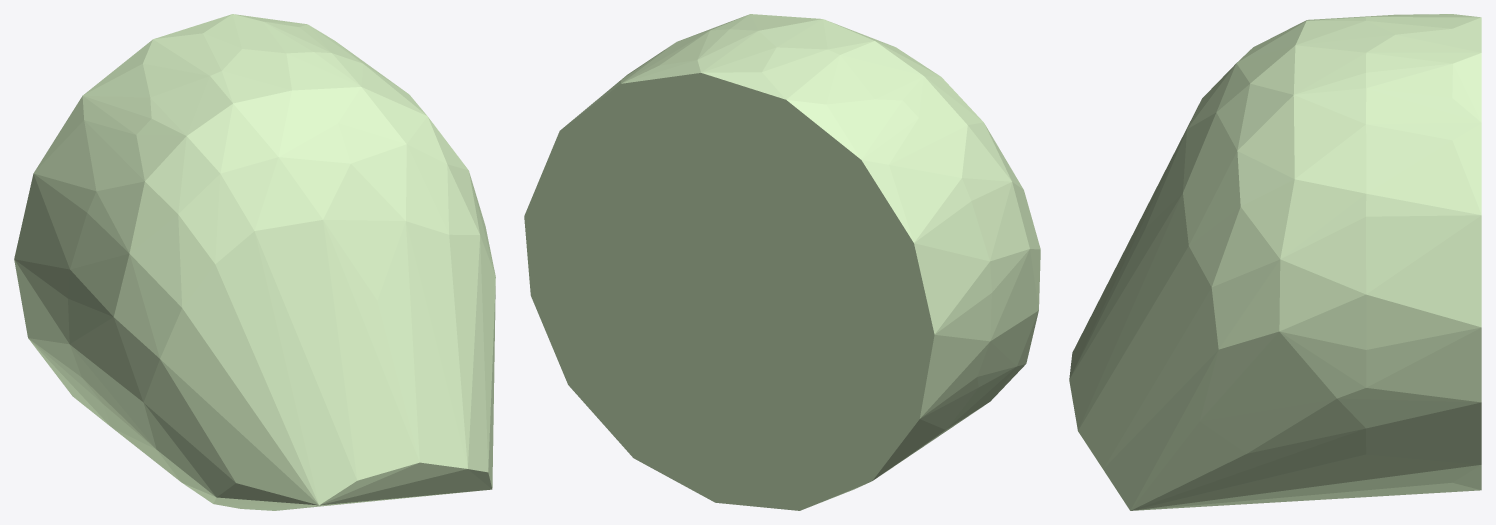
The model's file is kuka_URDF_link6_resp_coll_1.dae.
3 views of the same model, side by side, from view 1: azimuth 30°, elevation 25°; view 2: azimuth 150°, elevation 25°; view 3: azimuth 270°, elevation 25° (orthographic). The views are drawn at different scales.
Parts seen in each view (by area): view 1: Node_0000020FCC58E660; view 2: Node_0000020FCC58E660; view 3: Node_0000020FCC58E660.
Part boxes in pixels (bbox=[...]): Node_0000020FCC58E660: bbox=[14, 14, 495, 510]; Node_0000020FCC58E660: bbox=[524, 14, 1040, 510]; Node_0000020FCC58E660: bbox=[1069, 14, 1481, 510].
Size of the model in its own units: 0.1361 by 0.1382 by 0.1178.
